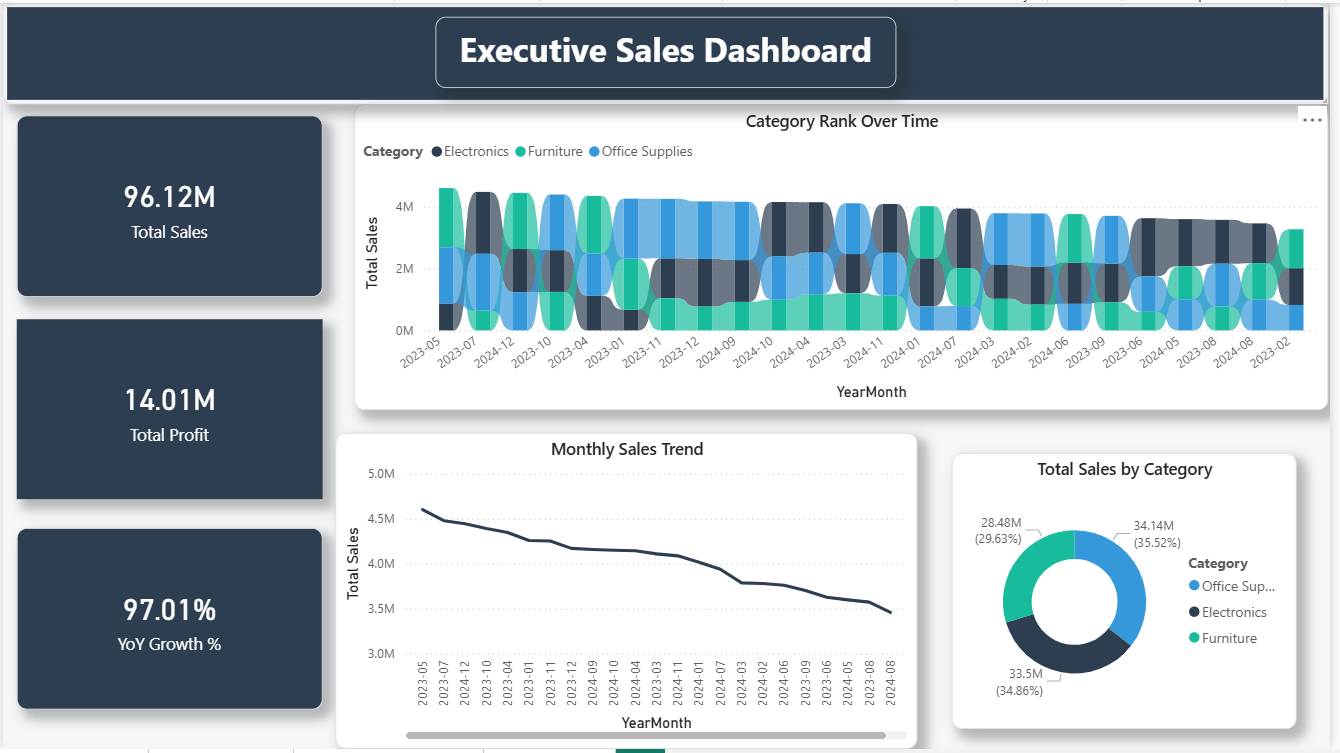

Layout of this report page (visuals, bound fields, positions):
{"tool":"powerbi","page":{"name":"Executive Dashboard","canvas":[1280,720],"ordinal":0},"visuals":[{"type":"card","fields":{"Values":["FactSales.Total Sales"]},"box":[13.8,108.8,295,175],"z":0},{"type":"card","fields":{"Values":["FactSales.Total Profit"]},"box":[13.8,305,295,173.8],"z":1000},{"type":"card","fields":{"Values":["FactSales.YoY Growth %"]},"box":[13.8,506.2,295,175],"z":2000},{"type":"donutChart","fields":{"Category":["FactSales.Category"],"Y":["FactSales.Total Sales"]},"box":[916.2,433.8,332.5,266.2],"z":3000},{"type":"ribbonChart","title":"Category Rank Over Time","fields":{"Category":["DimDate.YearMonth"],"Series":["FactSales.Category"],"Y":["FactSales.Total Sales"]},"box":[338.8,97.5,940,295],"z":4000},{"type":"shape","box":[0,0,1278.8,97.5],"z":5000},{"type":"lineChart","title":"Monthly Sales Trend","fields":{"Category":["DimDate.YearMonth"],"Y":["FactSales.Total Sales"]},"box":[321.2,415,561.2,305],"z":6000},{"type":"textbox","box":[417.5,13.8,445,68.8],"z":7000}]}

Visuals, with their boxes in screenshot pixels (x1, y1, x2, y2), scaled from the page's 1280x720 canvas onto the 1340x753 screenshot:
card - FactSales.Total Sales: [14, 114, 323, 297]
card - FactSales.Total Profit: [14, 319, 323, 501]
card - FactSales.YoY Growth %: [14, 529, 323, 712]
donutChart - FactSales.Category x FactSales.Total Sales: [959, 454, 1307, 732]
"Category Rank Over Time" ribbonChart: [355, 102, 1339, 410]
shape: [0, 0, 1339, 102]
"Monthly Sales Trend" lineChart: [336, 434, 924, 752]
textbox: [437, 14, 903, 86]
